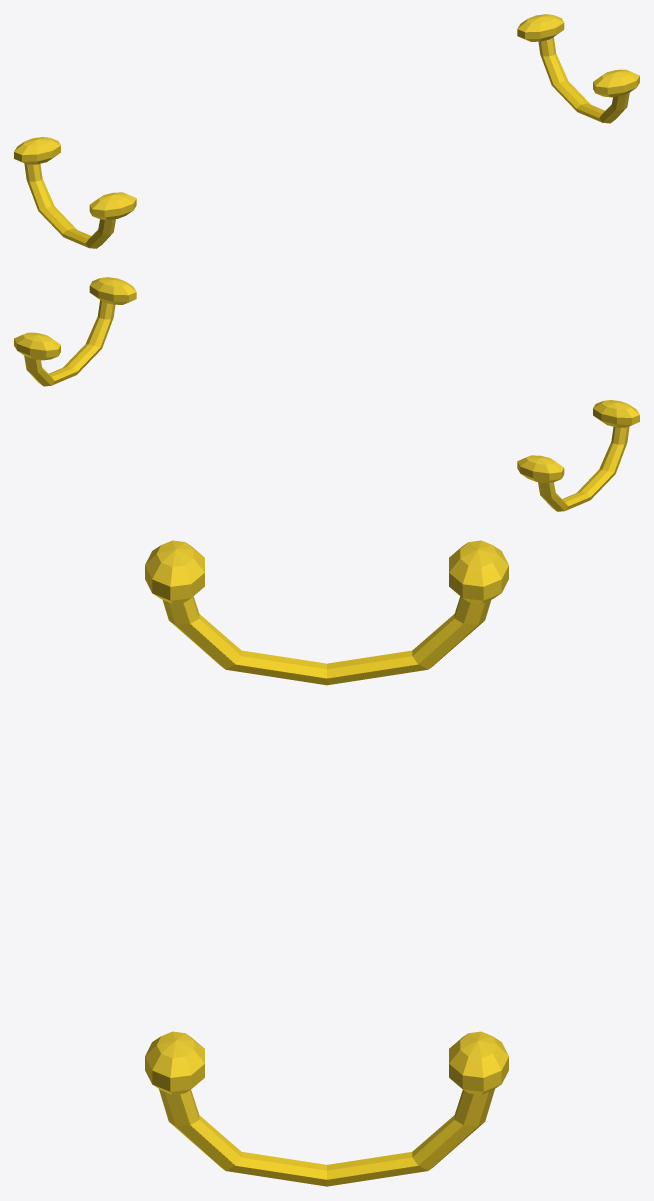
The model's file is Handles.fbx.
The picture shows the model from 3 angles, top to bottom: view 1: azimuth 30°, elevation 25°; view 2: azimuth 150°, elevation 25°; view 3: azimuth 270°, elevation 25°; orthographic projection. The views are drawn at different scales.
Parts seen in each view (by area): view 1: Handles; view 2: Handles; view 3: Handles.
Boxes of the visible parts, box(x1,y1,x2,y2) form: Handles: box(14, 14, 639, 248); Handles: box(14, 277, 639, 511); Handles: box(145, 540, 508, 1186).
Bounding box in the file's own units: 107 × 12.91 × 30.83.
